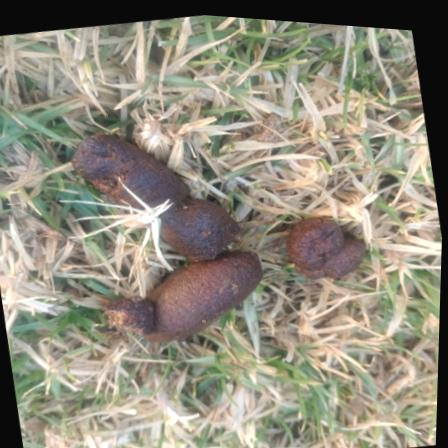dog-poop: (57, 103, 279, 379), (276, 189, 369, 285)
